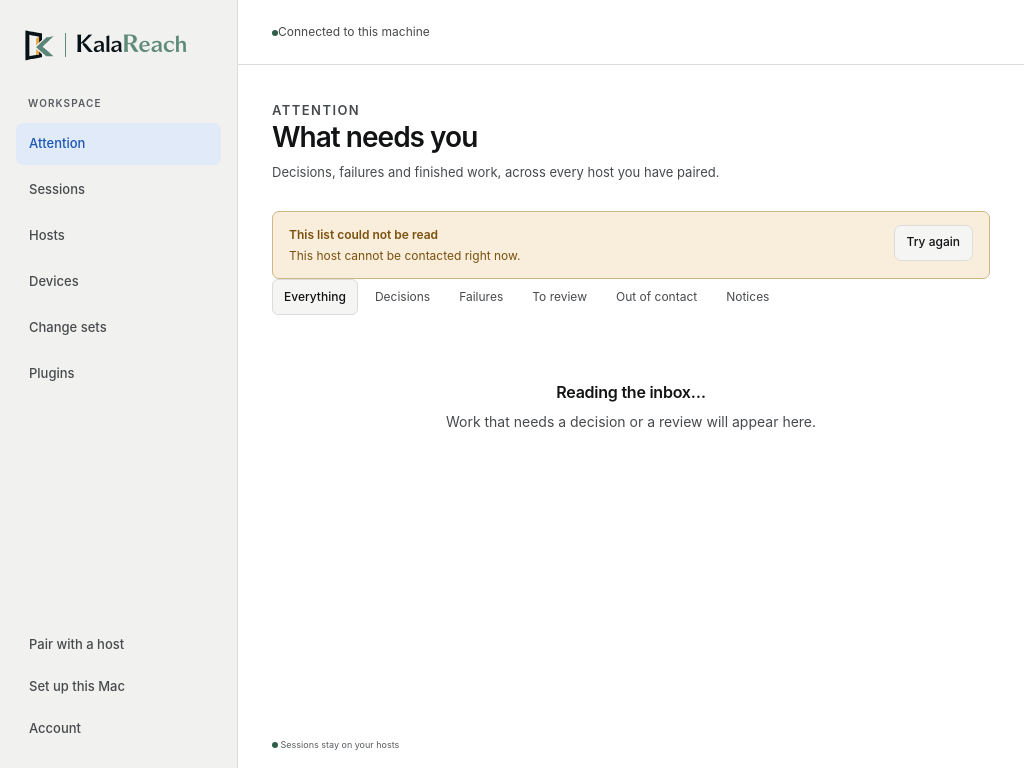
Test case: the attention inbox shows its newest read › lets a retry follow the read on its way
Click the button "Try again" at (933, 243), box 894,225 -> 973,261
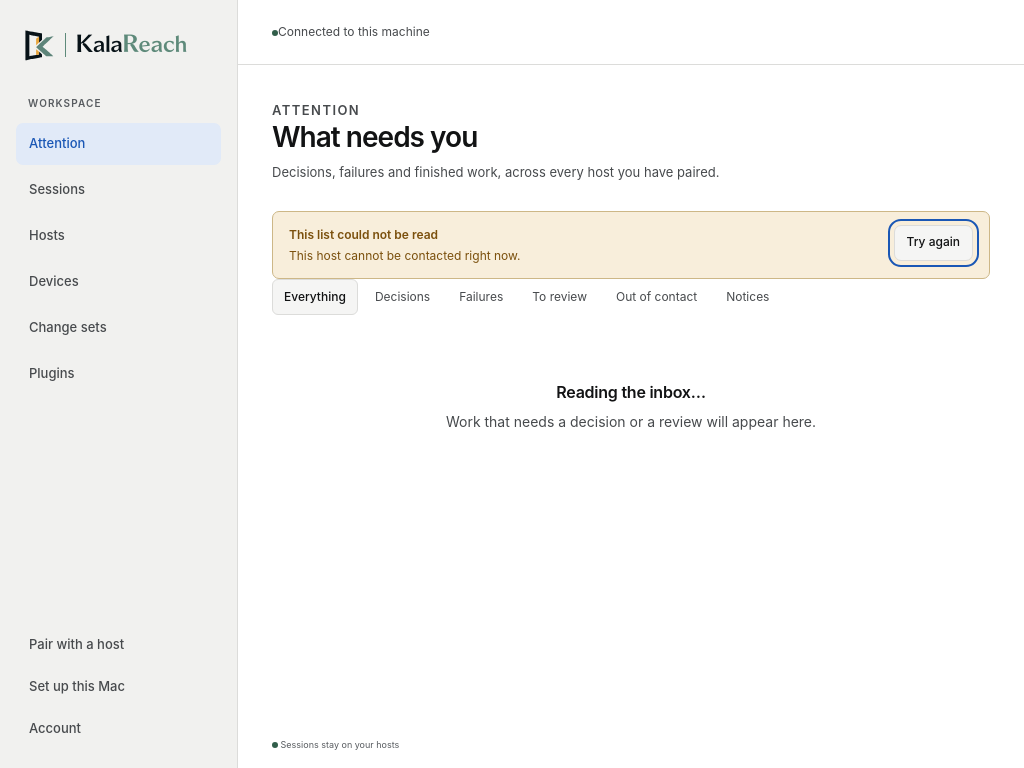
Click the button "Try again" at (933, 243), box 894,225 -> 973,261
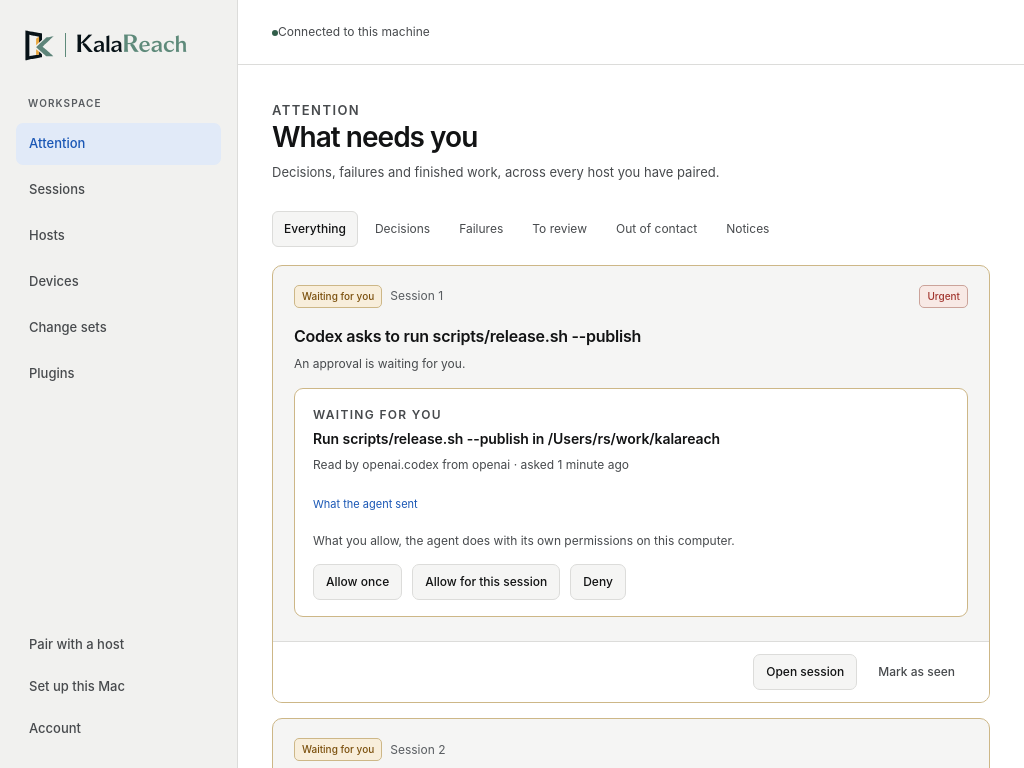
Now the text "This list could not be read" is gone
